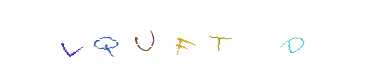3: (153, 0, 233, 80)
D: (154, 0, 234, 80)
F: (147, 0, 227, 80)
L: (54, 0, 134, 80)
Q: (104, 0, 184, 80)
T: (147, 0, 227, 80)
U: (142, 0, 222, 80)
